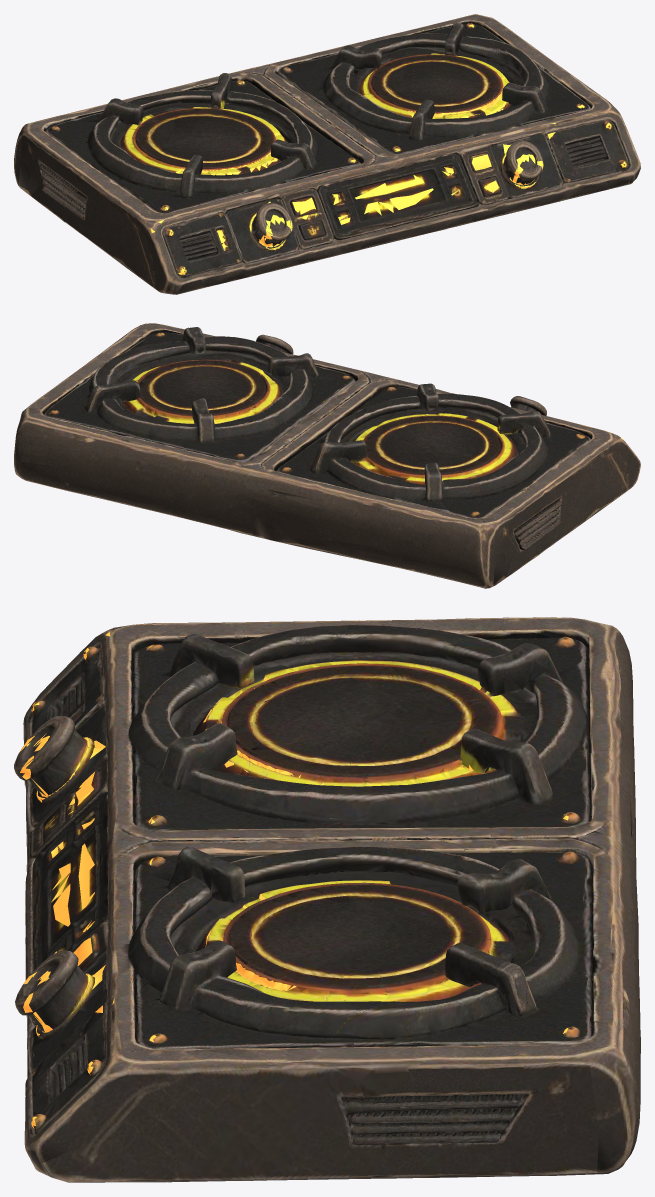
Rendered from stove.glb.
3 renders of one model, top to bottom at view 1: azimuth 30°, elevation 25°; view 2: azimuth 150°, elevation 25°; view 3: azimuth 270°, elevation 25°, orthographic. The views are drawn at different scales.
Parts seen in each view (by area): view 1: mesh_0; view 2: mesh_0; view 3: mesh_0.
Part boxes in pixels (x1,y1,x2,y2): mesh_0: (14,14,640,294); mesh_0: (14,323,640,588); mesh_0: (14,617,640,1182).
Size of the model in its own units: 2 by 0.3596 by 1.18.
2 materials, 1 textured.
